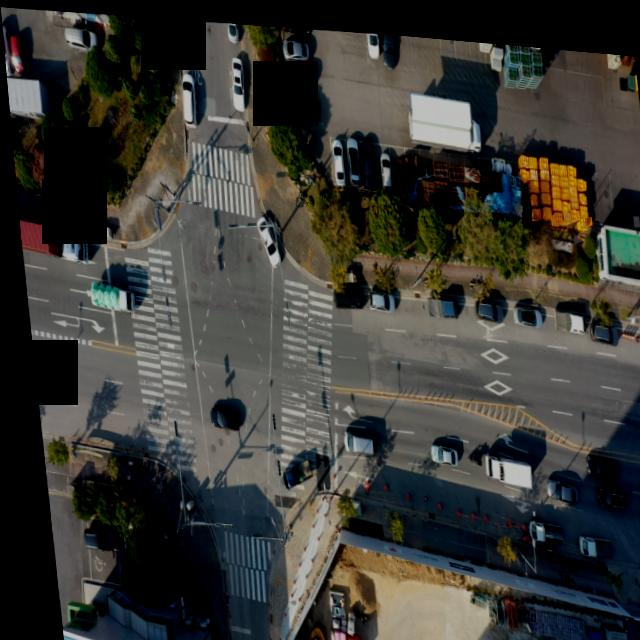car: (252, 210, 277, 262), (62, 18, 97, 49), (176, 69, 195, 123), (325, 276, 358, 305), (334, 422, 367, 451), (73, 524, 107, 552), (226, 51, 243, 105), (506, 293, 538, 320), (578, 442, 610, 469), (286, 84, 317, 111), (538, 467, 569, 494), (357, 129, 373, 180), (201, 399, 231, 425), (343, 129, 359, 177), (469, 290, 499, 315), (6, 31, 23, 72), (588, 474, 617, 498), (421, 434, 449, 458), (585, 309, 613, 333), (329, 132, 343, 179), (175, 16, 191, 57), (285, 57, 312, 81), (363, 283, 390, 306), (282, 30, 308, 52), (380, 27, 395, 61), (375, 145, 388, 179), (1, 21, 8, 75), (367, 26, 381, 51), (227, 17, 238, 37)
large_truck: (15, 213, 80, 260)
medium_truck: (401, 79, 480, 143), (476, 442, 528, 480)
small_truck: (81, 274, 129, 311), (271, 452, 304, 487), (547, 295, 581, 325), (567, 521, 603, 548), (419, 287, 453, 314), (519, 508, 553, 535)
